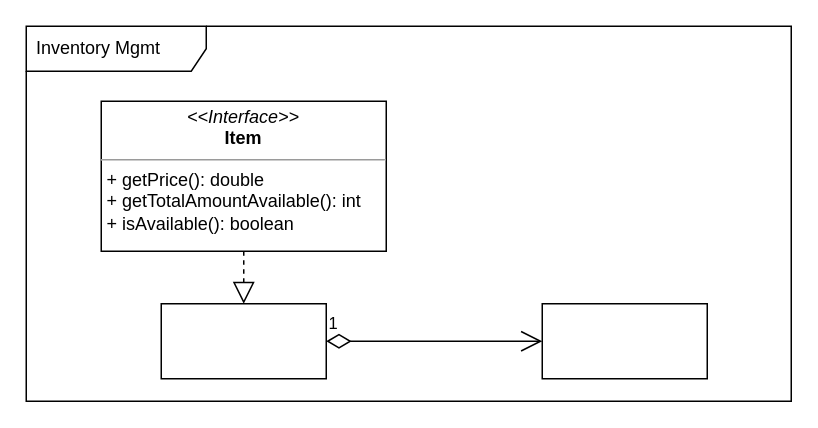
This 818x428 diagram has some shape labels left out. Each missing label, with the centre of its shape:
"Inventory" goes at pixel 624 340.
"Product" goes at pixel 243 340.
